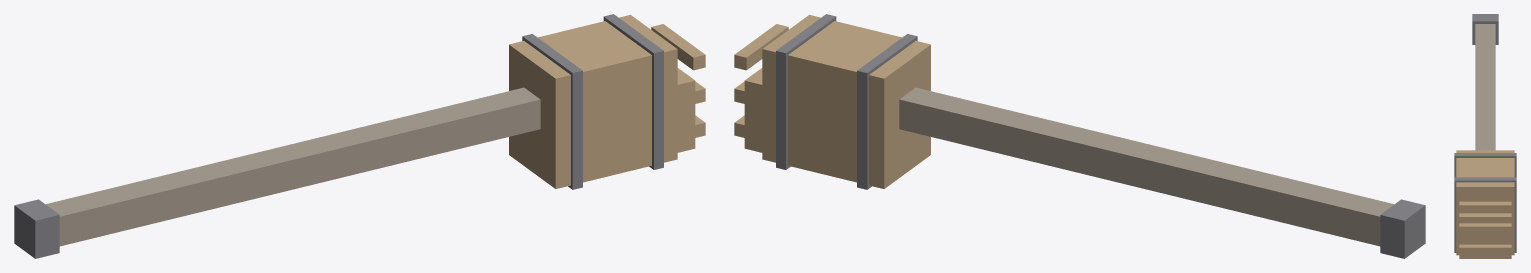
The model's file is prop-fulling-stock-mallet.fbx.
3 views of the same model, side by side, from view 1: azimuth 30°, elevation 25°; view 2: azimuth 150°, elevation 25°; view 3: azimuth 270°, elevation 25° (orthographic). The views are drawn at different scales.
Visible parts, largest first — view 1: prop-fulling-stock-mallet; view 2: prop-fulling-stock-mallet; view 3: prop-fulling-stock-mallet.
Part boxes in pixels (x1,y1,x2,y2): prop-fulling-stock-mallet: (14, 14, 705, 258); prop-fulling-stock-mallet: (734, 14, 1425, 258); prop-fulling-stock-mallet: (1454, 14, 1516, 258).
Bounding box in the file's own units: 162 × 27.5 × 21.5.
